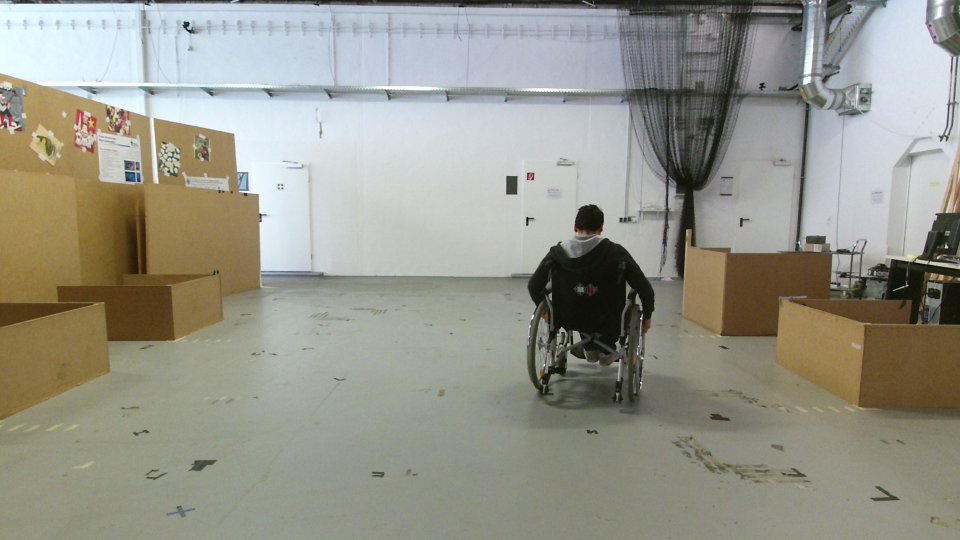wheelchair: (519, 197, 657, 408)
